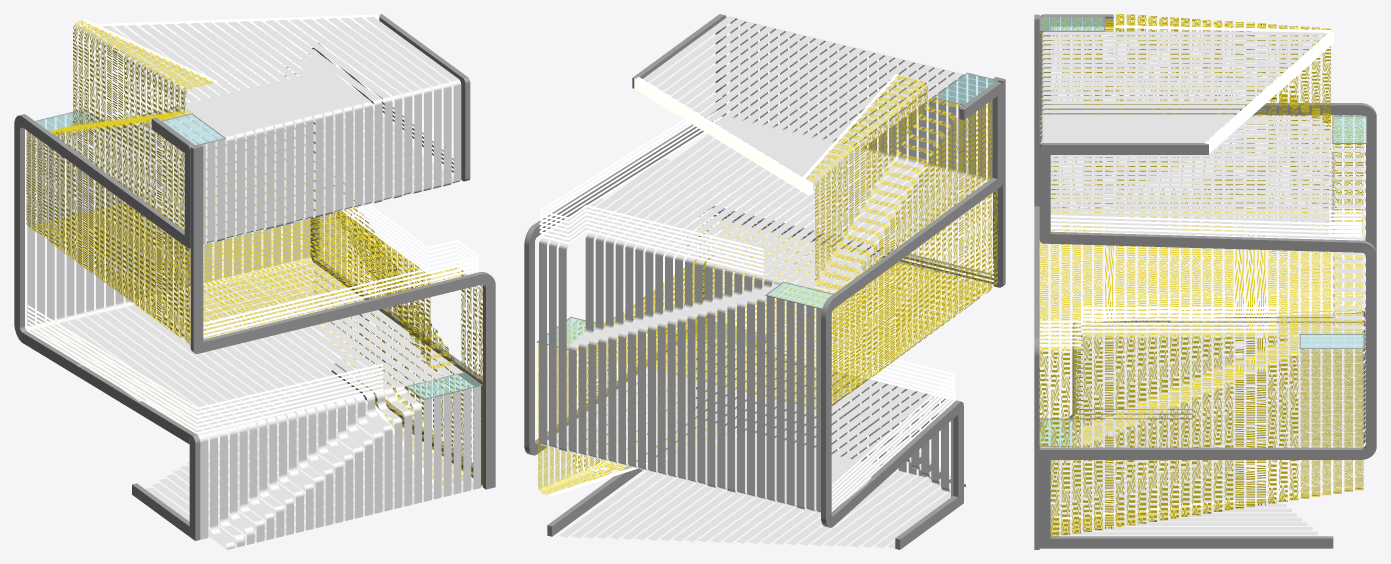
Rendered from Wrapped Gallery_2 .glb.
3 views of the same model, side by side, from view 1: azimuth 30°, elevation 25°; view 2: azimuth 150°, elevation 25°; view 3: azimuth 270°, elevation 25° (orthographic). The views are drawn at different scales.
Visible parts, largest first — view 1: Object_132, Object_109, Object_34, Object_36, Object_37, Object_38, Object_39, Object_41, Object_42, Object_40, Object_43, Object_44 (+76 smaller); view 2: Object_132, Object_131, Object_34, Object_36, Object_37, Object_38, Object_39, Object_40, Object_41, Object_42, Object_51, Object_43 (+77 smaller); view 3: Object_131, Object_132, Object_41, Object_46, Object_42, Object_43, Object_48, Object_39, Object_44, Object_47, Object_49, Object_40 (+89 smaller).
Boxes of the visible parts, x1=… form: Object_132: x1=14, y1=114, x2=200, y2=540; Object_109: x1=190, y1=144, x2=495, y2=489; Object_34: x1=86, y1=25, x2=264, y2=542; Object_36: x1=96, y1=25, x2=274, y2=540; Object_37: x1=106, y1=24, x2=284, y2=537; Object_38: x1=115, y1=24, x2=293, y2=535; Object_39: x1=125, y1=24, x2=303, y2=532; Object_41: x1=145, y1=23, x2=323, y2=528; Object_42: x1=155, y1=22, x2=333, y2=525; Object_40: x1=135, y1=23, x2=313, y2=530; Object_43: x1=165, y1=22, x2=343, y2=523; Object_44: x1=175, y1=21, x2=353, y2=520; Object_132: x1=821, y1=81, x2=1003, y2=549; Object_131: x1=524, y1=14, x2=726, y2=536; Object_34: x1=757, y1=65, x2=936, y2=546; Object_36: x1=747, y1=62, x2=926, y2=546; Object_37: x1=737, y1=60, x2=916, y2=546; Object_38: x1=727, y1=57, x2=906, y2=545; Object_39: x1=717, y1=55, x2=896, y2=545; Object_40: x1=707, y1=53, x2=886, y2=544; Object_41: x1=697, y1=50, x2=876, y2=544; Object_42: x1=687, y1=48, x2=866, y2=543; Object_51: x1=598, y1=26, x2=777, y2=540; Object_43: x1=677, y1=45, x2=857, y2=543; Object_131: x1=1039, y1=143, x2=1376, y2=548; Object_132: x1=1039, y1=14, x2=1376, y2=419; Object_41: x1=1039, y1=73, x2=1365, y2=470; Object_46: x1=1039, y1=96, x2=1365, y2=493; Object_42: x1=1039, y1=77, x2=1365, y2=475; Object_43: x1=1039, y1=82, x2=1365, y2=479; Object_48: x1=1039, y1=105, x2=1365, y2=502; Object_39: x1=1039, y1=63, x2=1365, y2=461; Object_44: x1=1039, y1=86, x2=1365, y2=484; Object_47: x1=1039, y1=100, x2=1365, y2=498; Object_49: x1=1039, y1=109, x2=1365, y2=507; Object_40: x1=1039, y1=68, x2=1365, y2=466.
Size of what is drawn, in the model's own units: 15.37 by 20.99 by 15.75.
5 materials, 1 textured.
